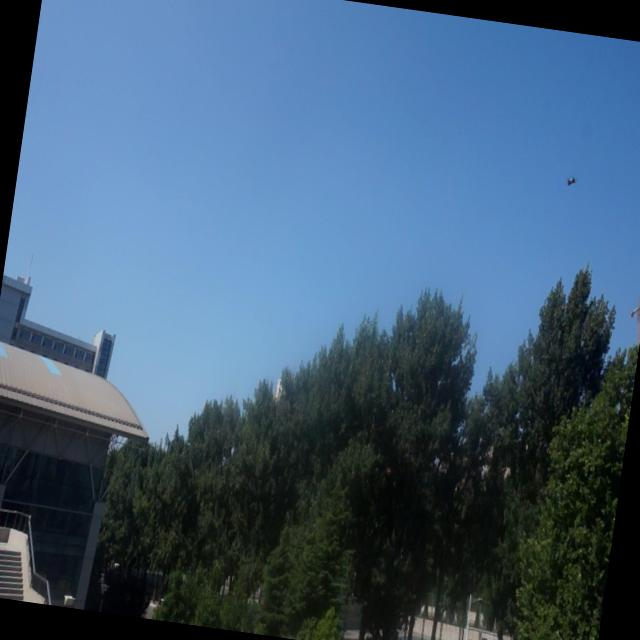drone: (561, 168, 581, 192)
